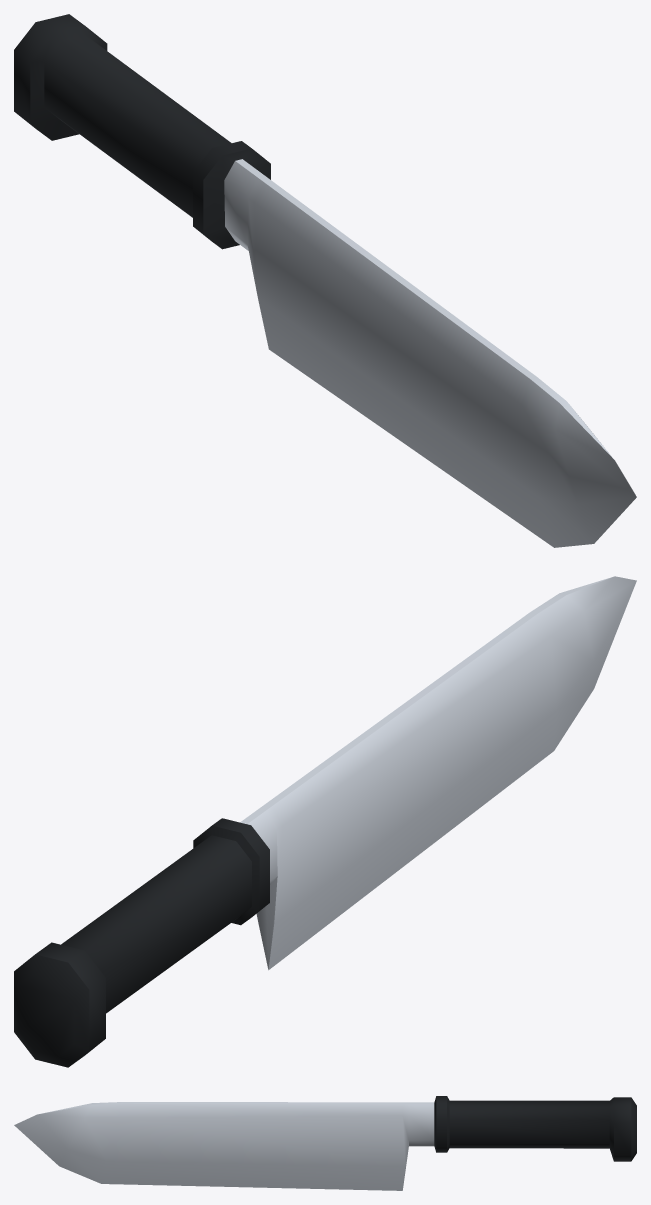
Rendered from Blade.fbx.
3 renders of one model, top to bottom at view 1: azimuth 30°, elevation 25°; view 2: azimuth 150°, elevation 25°; view 3: azimuth 270°, elevation 25°, orthographic. The views are drawn at different scales.
Visible parts, largest first — view 1: Cube; view 2: Cube; view 3: Cube.
Boxes of the visible parts, x1,y1,x2,y2 form: Cube: (14, 14, 636, 547); Cube: (14, 576, 636, 1067); Cube: (14, 1096, 636, 1190).
Size of the model in its own units: 11 by 23.83 by 147.
